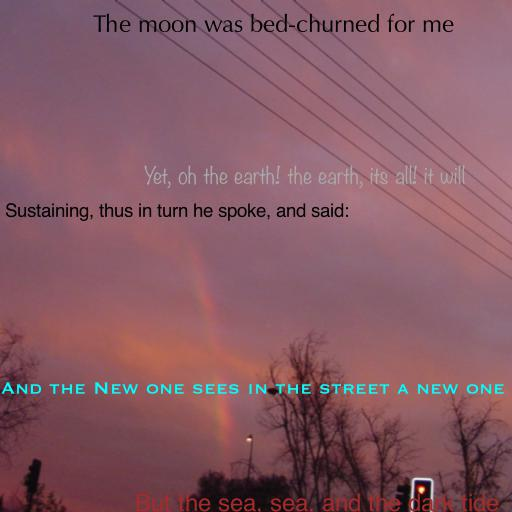Copperplate: (1, 382, 505, 394)
Noteworthy: (143, 165, 465, 189)
Optima: (92, 13, 454, 33)
SF Pro: (135, 493, 499, 512)
SignPainter: (5, 203, 349, 221)
